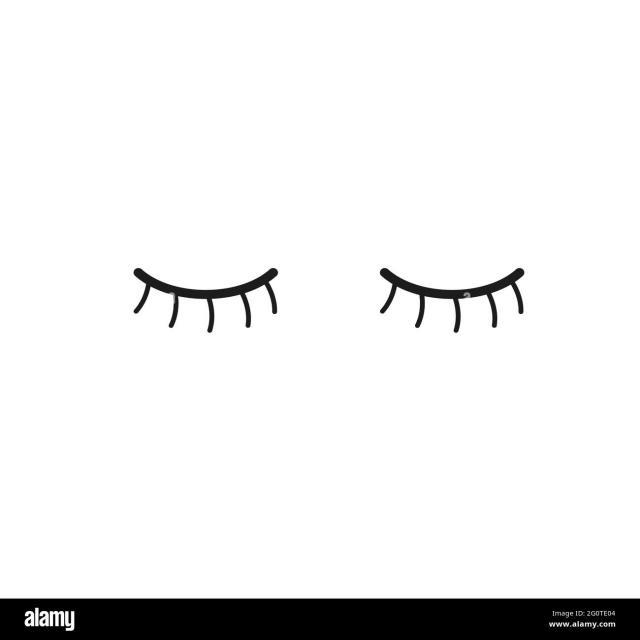real: (97, 232, 578, 376)
